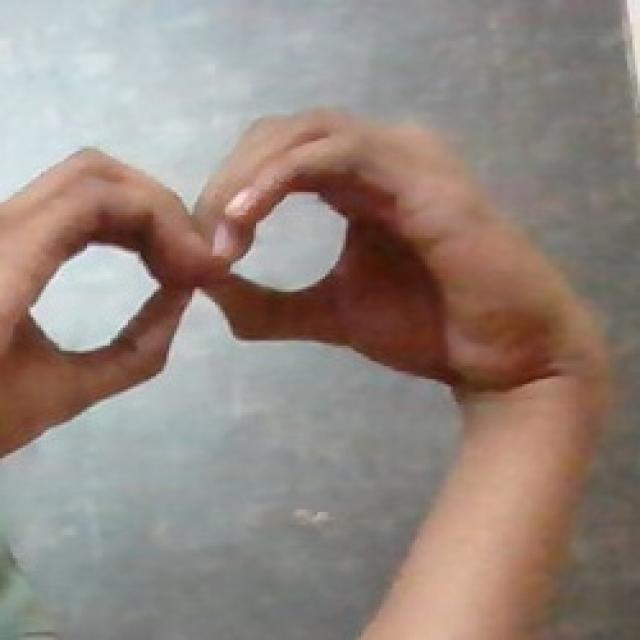Alphabet-B: (1, 102, 554, 436)
